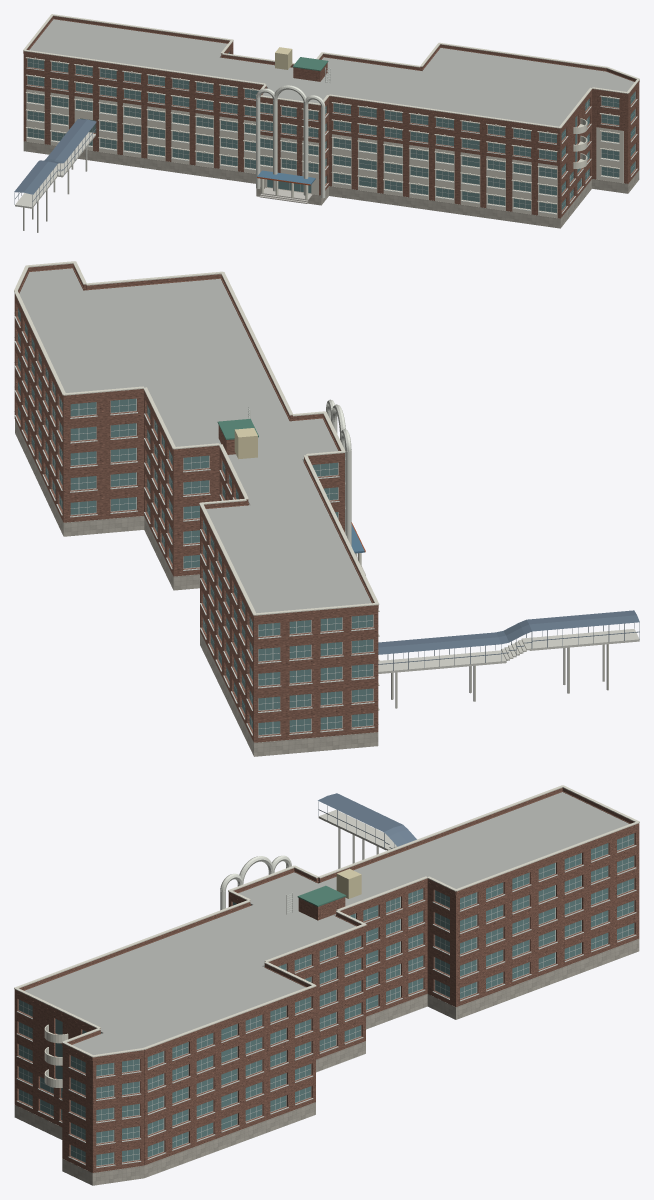
3 renders of one model, top to bottom at view 1: azimuth 30°, elevation 25°; view 2: azimuth 150°, elevation 25°; view 3: azimuth 270°, elevation 25°, orthographic. The views are drawn at different scales.
Parts seen in each view (by area): view 1: main__brick, main__roof-surface, main__glass, main__salmon, main__frame, main__white, main__stone, main__arch, main__bridge-roof, main__bridge-deck, main__canopy, main__cream (+2 smaller); view 2: main__roof-surface, main__brick, main__glass, main__frame, main__stone, main__white, main__bridge-deck, main__bridge-roof, main__arch, main__rail, main__cream; view 3: main__brick, main__roof-surface, main__glass, main__frame, main__stone, main__white, main__bridge-roof, main__bridge-deck, main__arch, main__cream, main__roof.
Part boxes in pixels (x1=…): main__brick: x1=23, y1=16, x2=639, y2=218; main__roof-surface: x1=29, y1=19, x2=634, y2=126; main__glass: x1=27, y1=52, x2=635, y2=212; main__salmon: x1=26, y1=89, x2=623, y2=218; main__frame: x1=26, y1=58, x2=637, y2=214; main__white: x1=23, y1=14, x2=639, y2=204; main__stone: x1=23, y1=141, x2=639, y2=228; main__arch: x1=256, y1=85, x2=325, y2=198; main__bridge-roof: x1=14, y1=119, x2=96, y2=194; main__bridge-deck: x1=15, y1=133, x2=95, y2=232; main__canopy: x1=257, y1=170, x2=315, y2=184; main__cream: x1=275, y1=47, x2=292, y2=69; main__roof-surface: x1=19, y1=268, x2=371, y2=613; main__brick: x1=14, y1=263, x2=378, y2=742; main__glass: x1=18, y1=308, x2=372, y2=734; main__frame: x1=14, y1=311, x2=378, y2=737; main__stone: x1=15, y1=420, x2=378, y2=756; main__white: x1=14, y1=261, x2=379, y2=710; main__bridge-deck: x1=378, y1=629, x2=639, y2=708; main__bridge-roof: x1=378, y1=610, x2=639, y2=654; main__arch: x1=326, y1=399, x2=351, y2=545; main__rail: x1=378, y1=622, x2=639, y2=670; main__cream: x1=234, y1=428, x2=257, y2=459; main__brick: x1=14, y1=787, x2=639, y2=1172; main__roof-surface: x1=24, y1=792, x2=629, y2=1054; main__glass: x1=19, y1=833, x2=633, y2=1165; main__frame: x1=16, y1=833, x2=636, y2=1168; main__stone: x1=14, y1=939, x2=639, y2=1185; main__white: x1=14, y1=785, x2=639, y2=1087; main__bridge-roof: x1=318, y1=793, x2=416, y2=846; main__bridge-deck: x1=318, y1=810, x2=395, y2=868; main__arch: x1=220, y1=855, x2=291, y2=910; main__cream: x1=336, y1=868, x2=361, y2=898; main__roof: x1=297, y1=885, x2=346, y2=906.
Size of the model in its own units: 108 by 23 by 86.12.
Materials: 26 (2 with a texture image).
